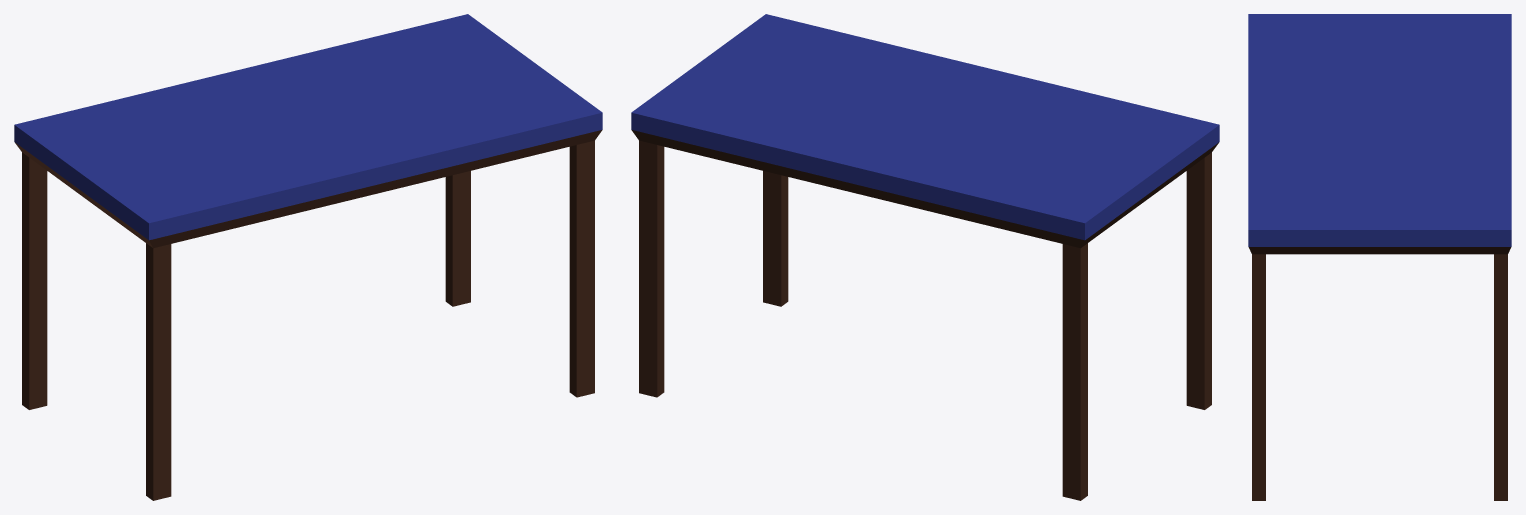
The model's file is H_Table.fbx.
The picture shows the model from 3 angles, left to right: view 1: azimuth 30°, elevation 25°; view 2: azimuth 150°, elevation 25°; view 3: azimuth 270°, elevation 25°; orthographic projection. The views are drawn at different scales.
Visible parts, largest first — view 1: H_Table; view 2: H_Table; view 3: H_Table.
Boxes of the visible parts, left/top/right/bottom form: H_Table: left=14, top=14, right=602, bottom=500; H_Table: left=631, top=14, right=1219, bottom=500; H_Table: left=1248, top=14, right=1511, bottom=500.
Bounding box in the file's own units: 824 × 424 × 487.
